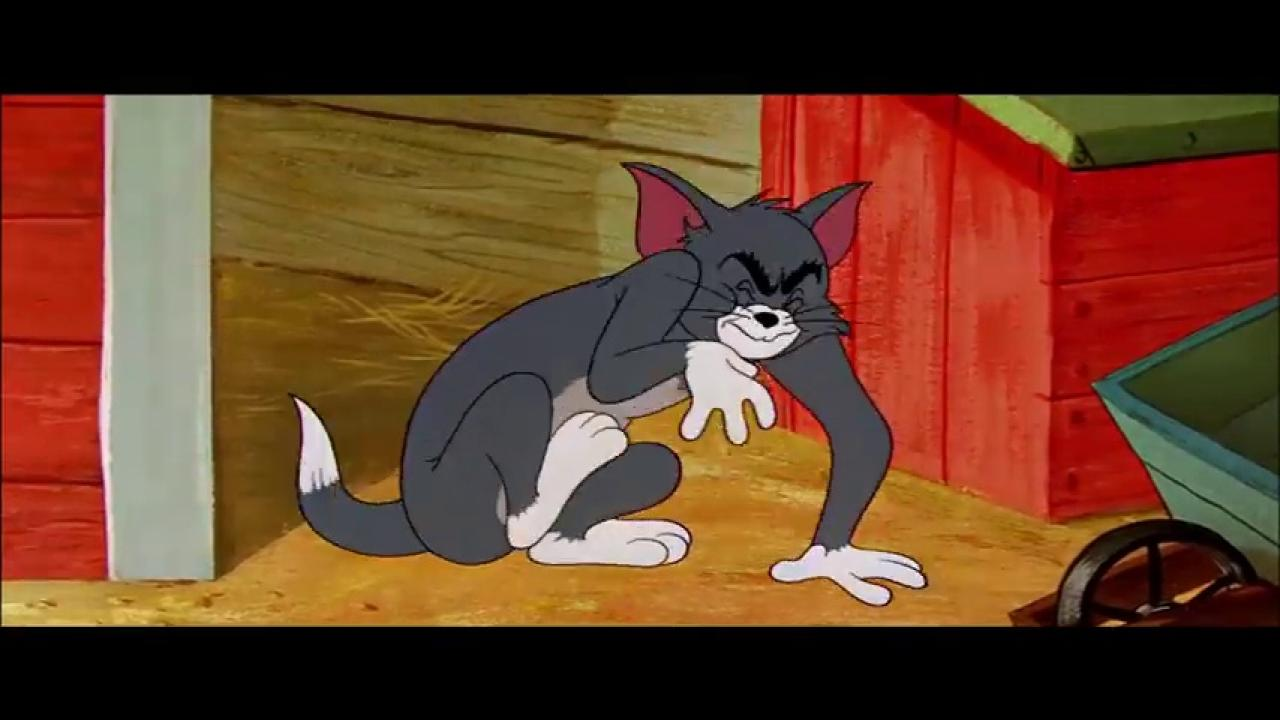Tom: (287, 158, 932, 607)
